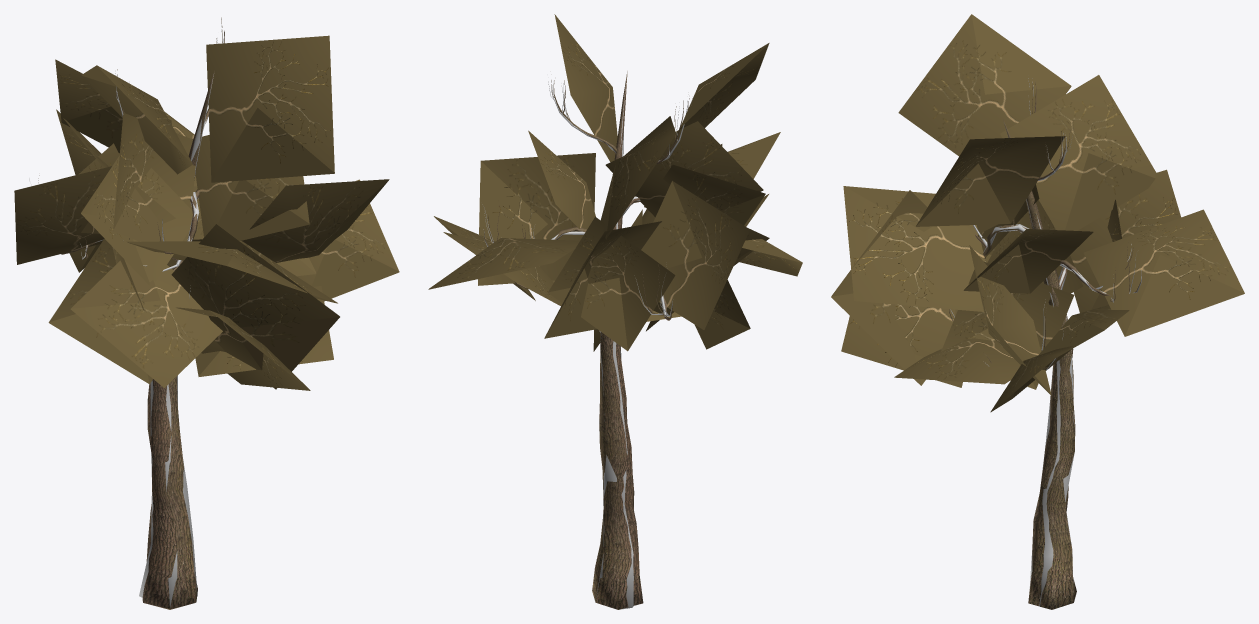
Rendered from tree_2.dae.
The picture shows the model from 3 angles, left to right: view 1: azimuth 30°, elevation 25°; view 2: azimuth 150°, elevation 25°; view 3: azimuth 270°, elevation 25°; orthographic projection. The views are drawn at different scales.
Visible parts, largest first — view 1: Leafs, Leafs_reverse, Branches, Volume; view 2: Leafs, Leafs_reverse, Branches, Volume; view 3: Leafs, Leafs_reverse, Branches, Volume.
Part boxes in pixels (box(x1,y1,x2,y2)): Leafs: box(14, 35, 399, 389); Leafs_reverse: box(14, 60, 399, 390); Branches: box(38, 17, 224, 609); Volume: box(29, 25, 224, 607); Leafs: box(428, 14, 802, 350); Leafs_reverse: box(429, 18, 802, 351); Branches: box(483, 71, 689, 609); Volume: box(482, 80, 692, 609); Leafs: box(831, 14, 1244, 411); Leafs_reverse: box(831, 86, 1244, 412); Branches: box(949, 81, 1141, 609); Volume: box(950, 78, 1141, 607).
Bounding box in the file's own units: 6.54 × 7.59 × 11.01.
Materials: 3 (2 with a texture image).
